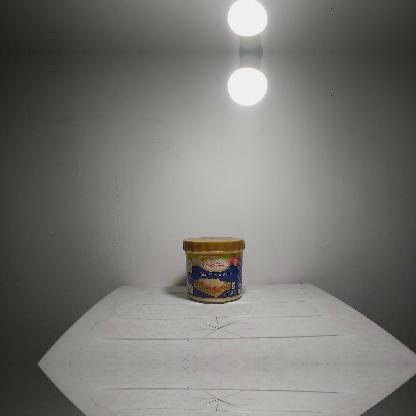Lady-s-Choice: (182, 235, 248, 305)
